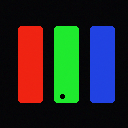0 point: (60, 94, 64, 98)
